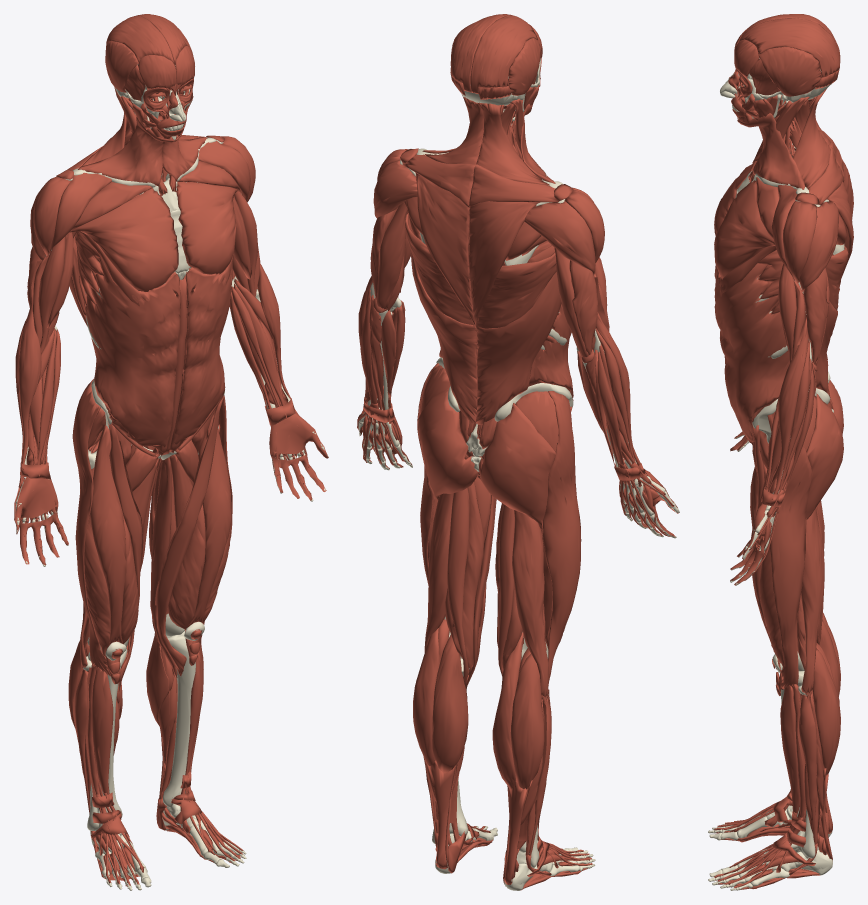
The model's file is bioguard-anatomy.glb.
3 renders of one model, left to right at view 1: azimuth 30°, elevation 25°; view 2: azimuth 150°, elevation 25°; view 3: azimuth 270°, elevation 25°, orthographic. The views are drawn at different scales.
Visible parts, largest first — view 1: MUSCLES, SKELETON; view 2: MUSCLES, SKELETON; view 3: MUSCLES, SKELETON.
Boxes of the visible parts, left/top/right/bottom form: MUSCLES: left=14, top=14, right=328, bottom=886; SKELETON: left=15, top=64, right=328, bottom=890; MUSCLES: left=357, top=14, right=679, bottom=890; SKELETON: left=358, top=58, right=679, bottom=890; MUSCLES: left=714, top=14, right=853, bottom=889; SKELETON: left=708, top=58, right=844, bottom=890.
Bounding box in the file's own units: 0.7173 × 1.82 × 0.2861.
